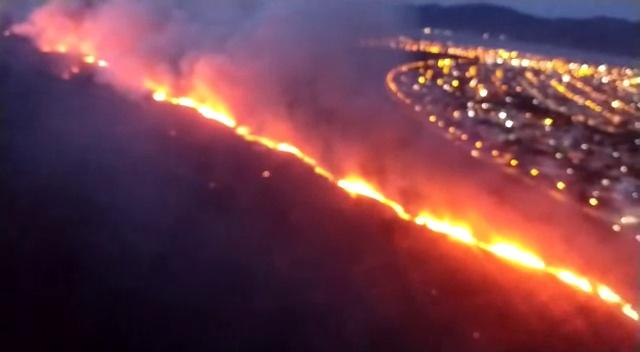fire: (185, 97, 249, 125), (489, 234, 541, 267), (345, 176, 402, 204), (412, 212, 478, 236), (549, 268, 595, 290)
